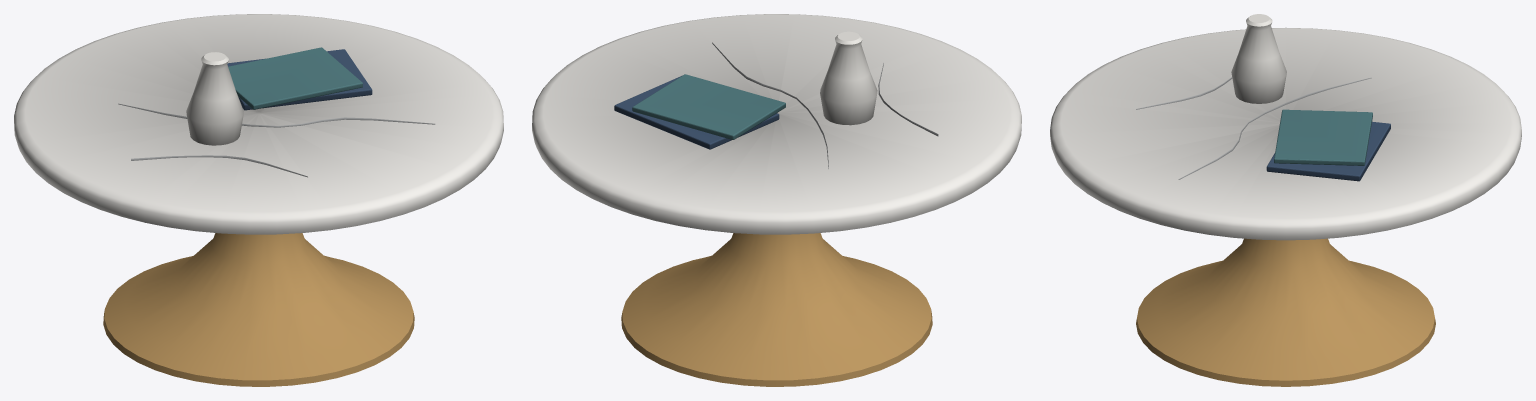
Rendered from coffeeTableMarble.glb.
3 renders of one model, left to right at view 1: azimuth 30°, elevation 25°; view 2: azimuth 150°, elevation 25°; view 3: azimuth 270°, elevation 25°, orthographic. The views are drawn at different scales.
Parts seen in each view (by area): view 1: coffeeTableMarble; view 2: coffeeTableMarble; view 3: coffeeTableMarble.
Part boxes in pixels (bbox=[...]): coffeeTableMarble: bbox=[14, 14, 503, 386]; coffeeTableMarble: bbox=[532, 14, 1021, 386]; coffeeTableMarble: bbox=[1050, 14, 1521, 386].
Bounding box in the file's own units: 0.88 × 0.58 × 0.88.
